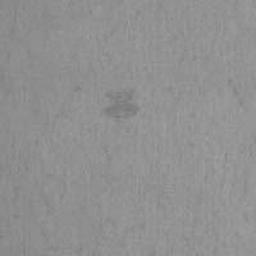Oil spot: (102, 81, 143, 127)
